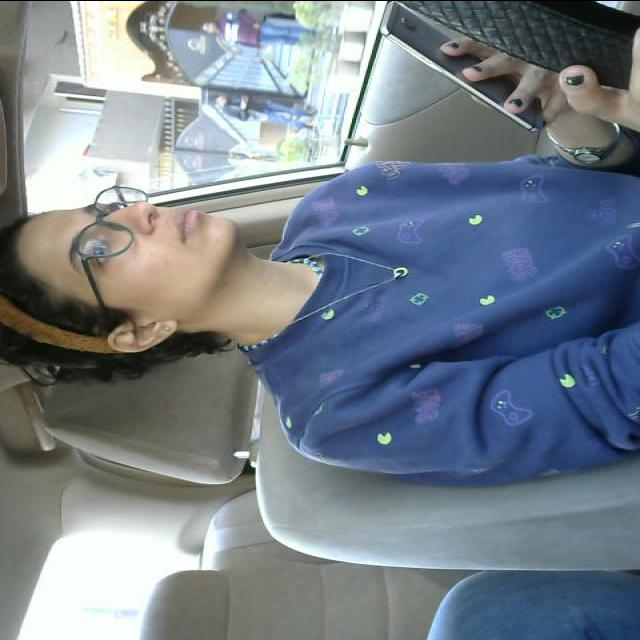mobile use: (373, 0, 543, 135)
